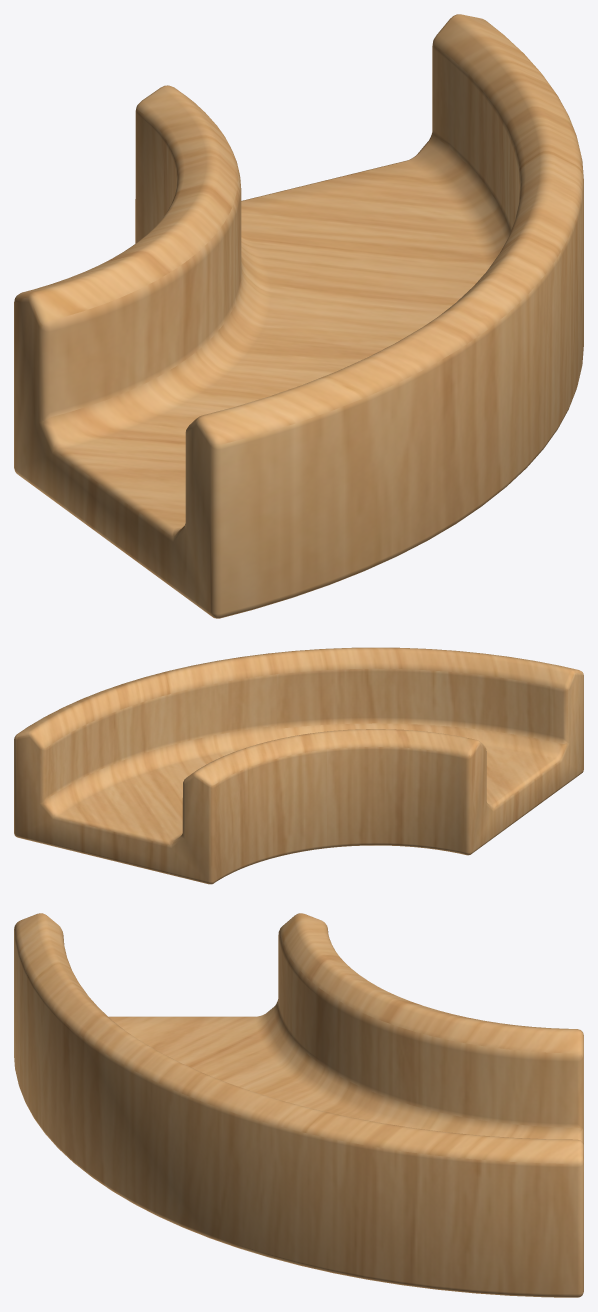
The model's file is channel_curve.glb.
3 views of the same model, one above another, from view 1: azimuth 30°, elevation 25°; view 2: azimuth 150°, elevation 25°; view 3: azimuth 270°, elevation 25° (orthographic). The views are drawn at different scales.
Parts seen in each view (by area): view 1: Open wooden trough; view 2: Open wooden trough; view 3: Open wooden trough.
Part boxes in pixels (<box>): Open wooden trough: <box>14,14,583,618</box>; Open wooden trough: <box>14,647,583,884</box>; Open wooden trough: <box>14,913,583,1297</box>.
Size of the model in its own units: 0.6897 by 0.1978 by 0.6897.
Materials: 1 (1 with a texture image).
